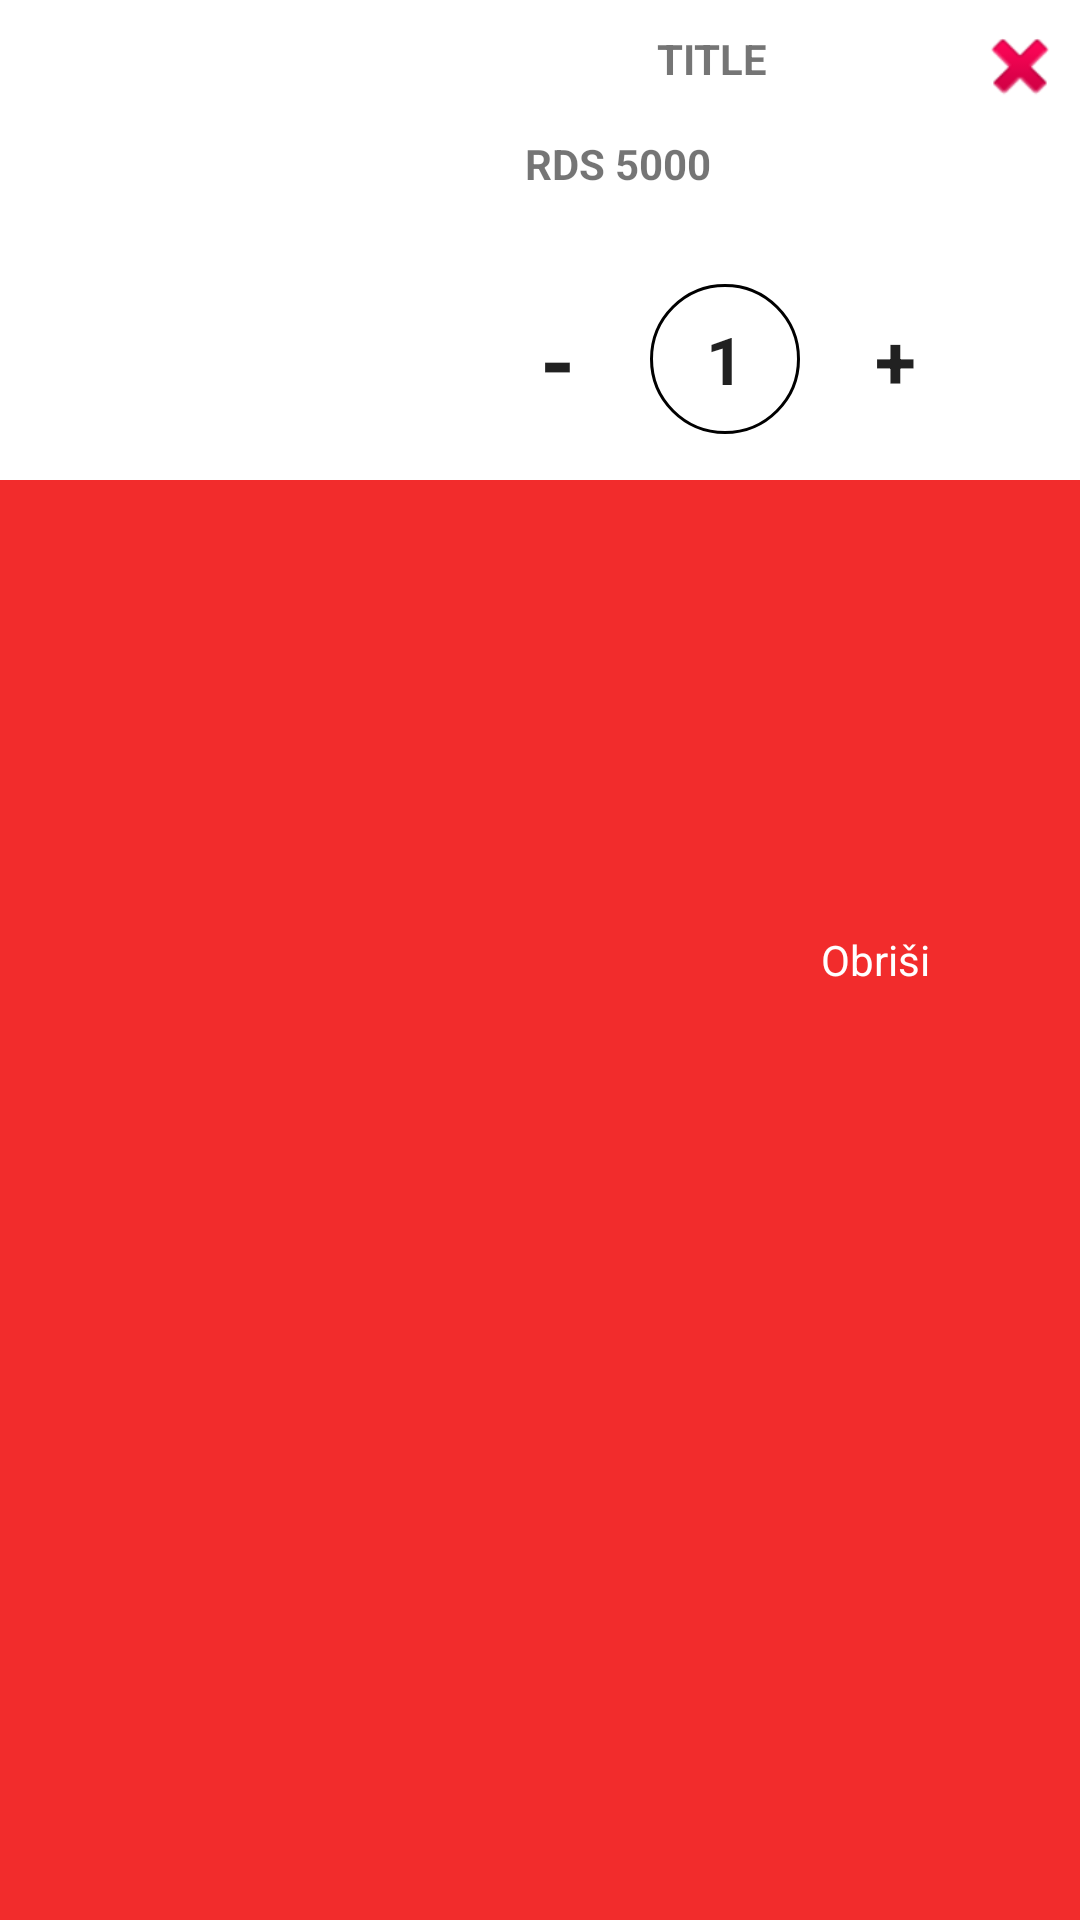

Icons on this 1080w x 1920h Android screen, each with the point to tap as (x=x, y=y):
delete: (x=1020, y=66)
